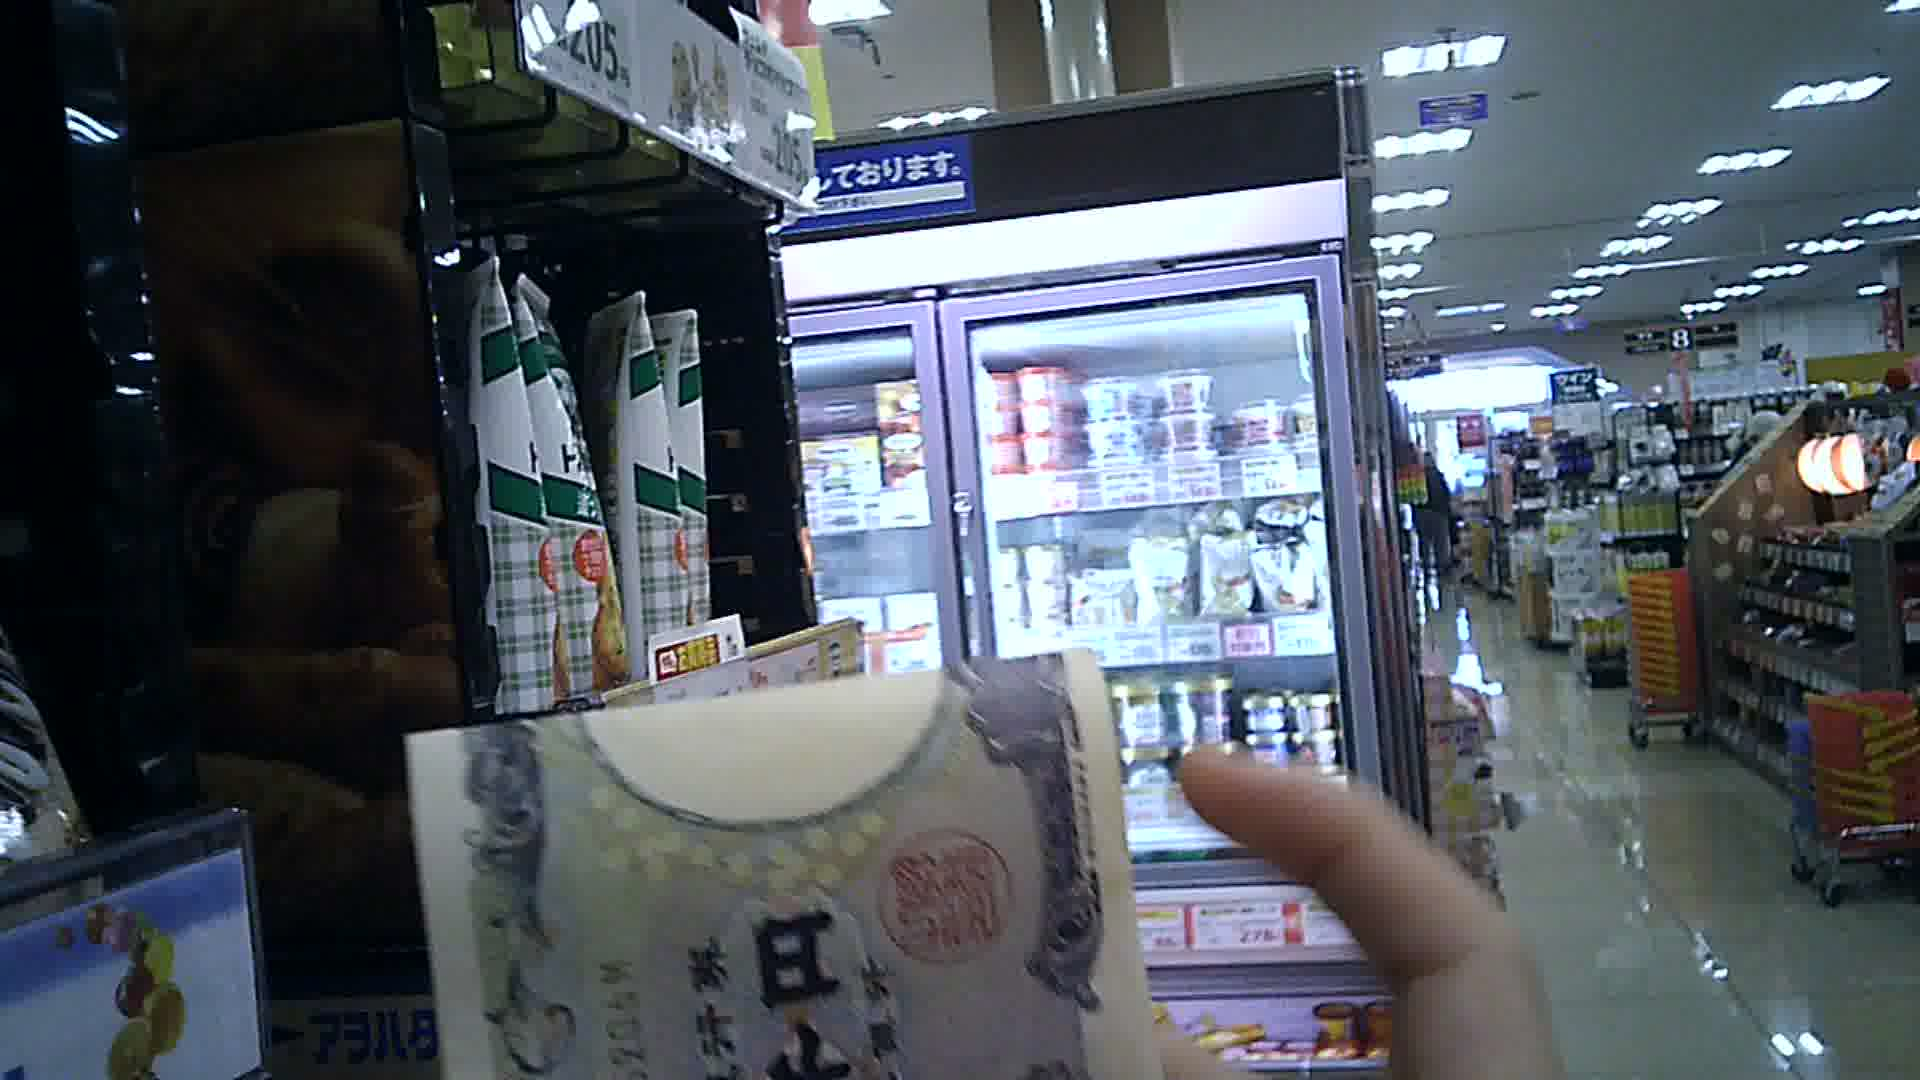5,000 Yen: (388, 655, 1159, 1077)
